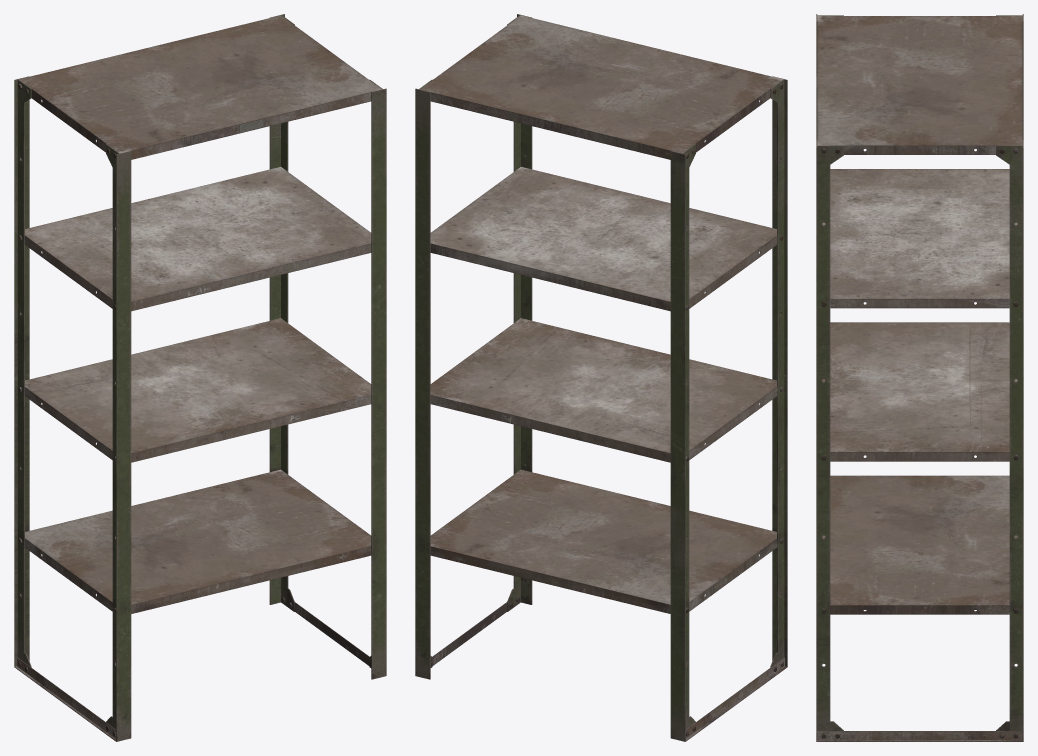
File: worn_metal_rack.glb
The picture shows the model from 3 angles, left to right: view 1: azimuth 30°, elevation 25°; view 2: azimuth 150°, elevation 25°; view 3: azimuth 270°, elevation 25°; orthographic projection.
Parts seen in each view (by area): view 1: worn_metal_rack; view 2: worn_metal_rack; view 3: worn_metal_rack.
Boxes of the visible parts, x1,y1,x2,y2 form: worn_metal_rack: (14,14,386,741); worn_metal_rack: (415,14,787,741); worn_metal_rack: (816,14,1023,741).
Bounding box in the file's own units: 0.9154 × 1.9 × 0.6.
1 material, 1 textured.
